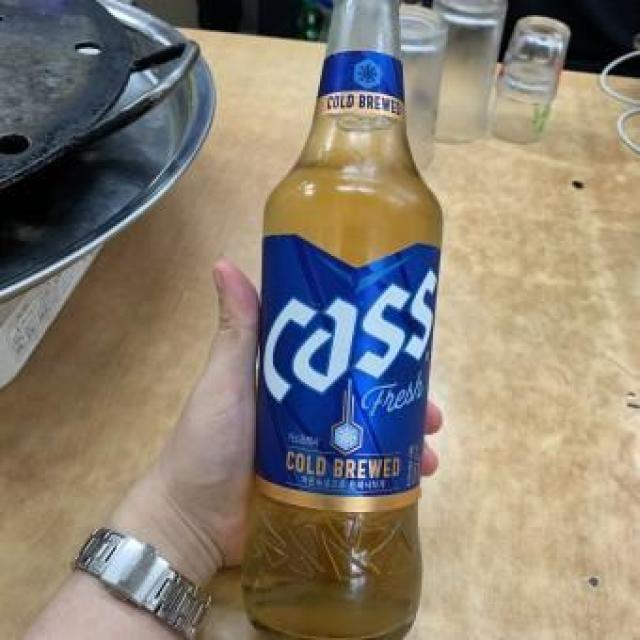beer-bottle: (245, 0, 460, 640)
